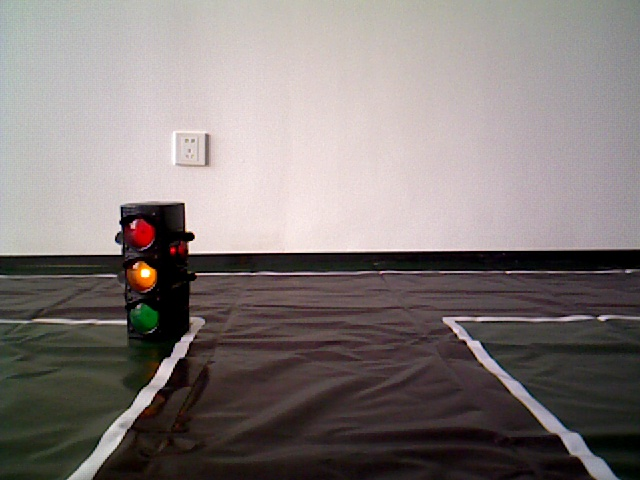yellow: (118, 201, 190, 339)
